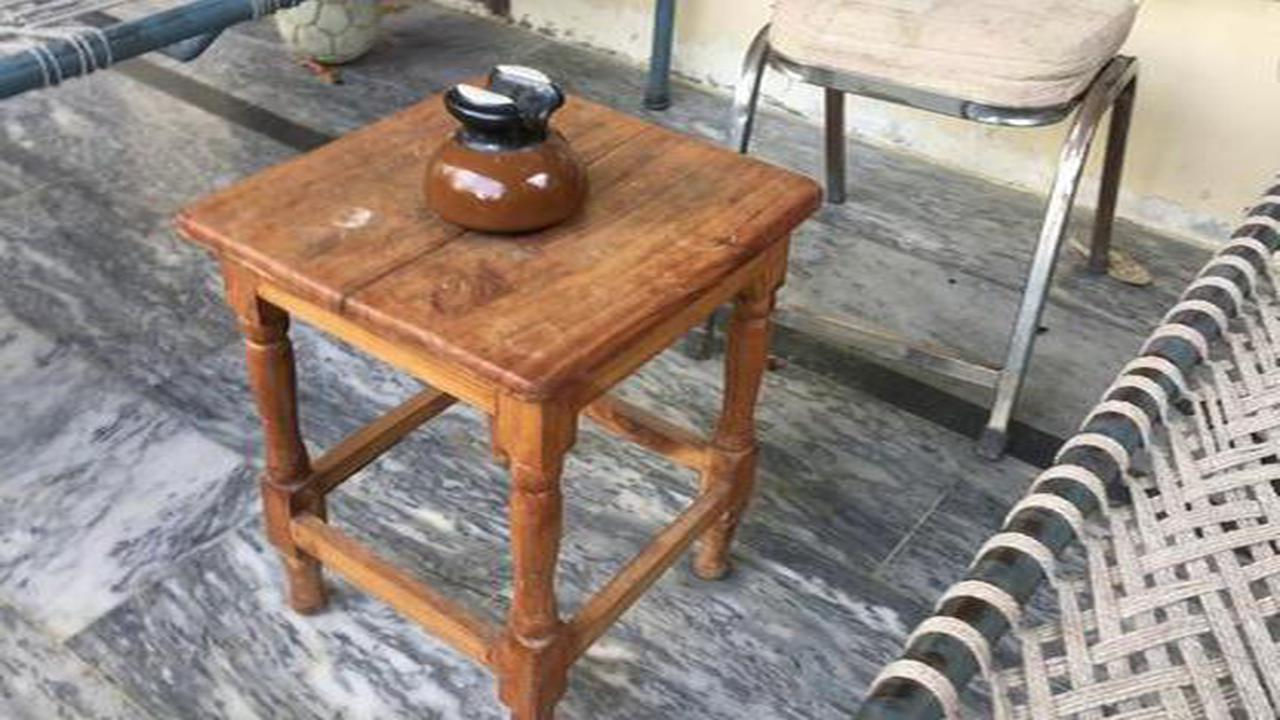insulator_pin: (413, 54, 613, 243)
